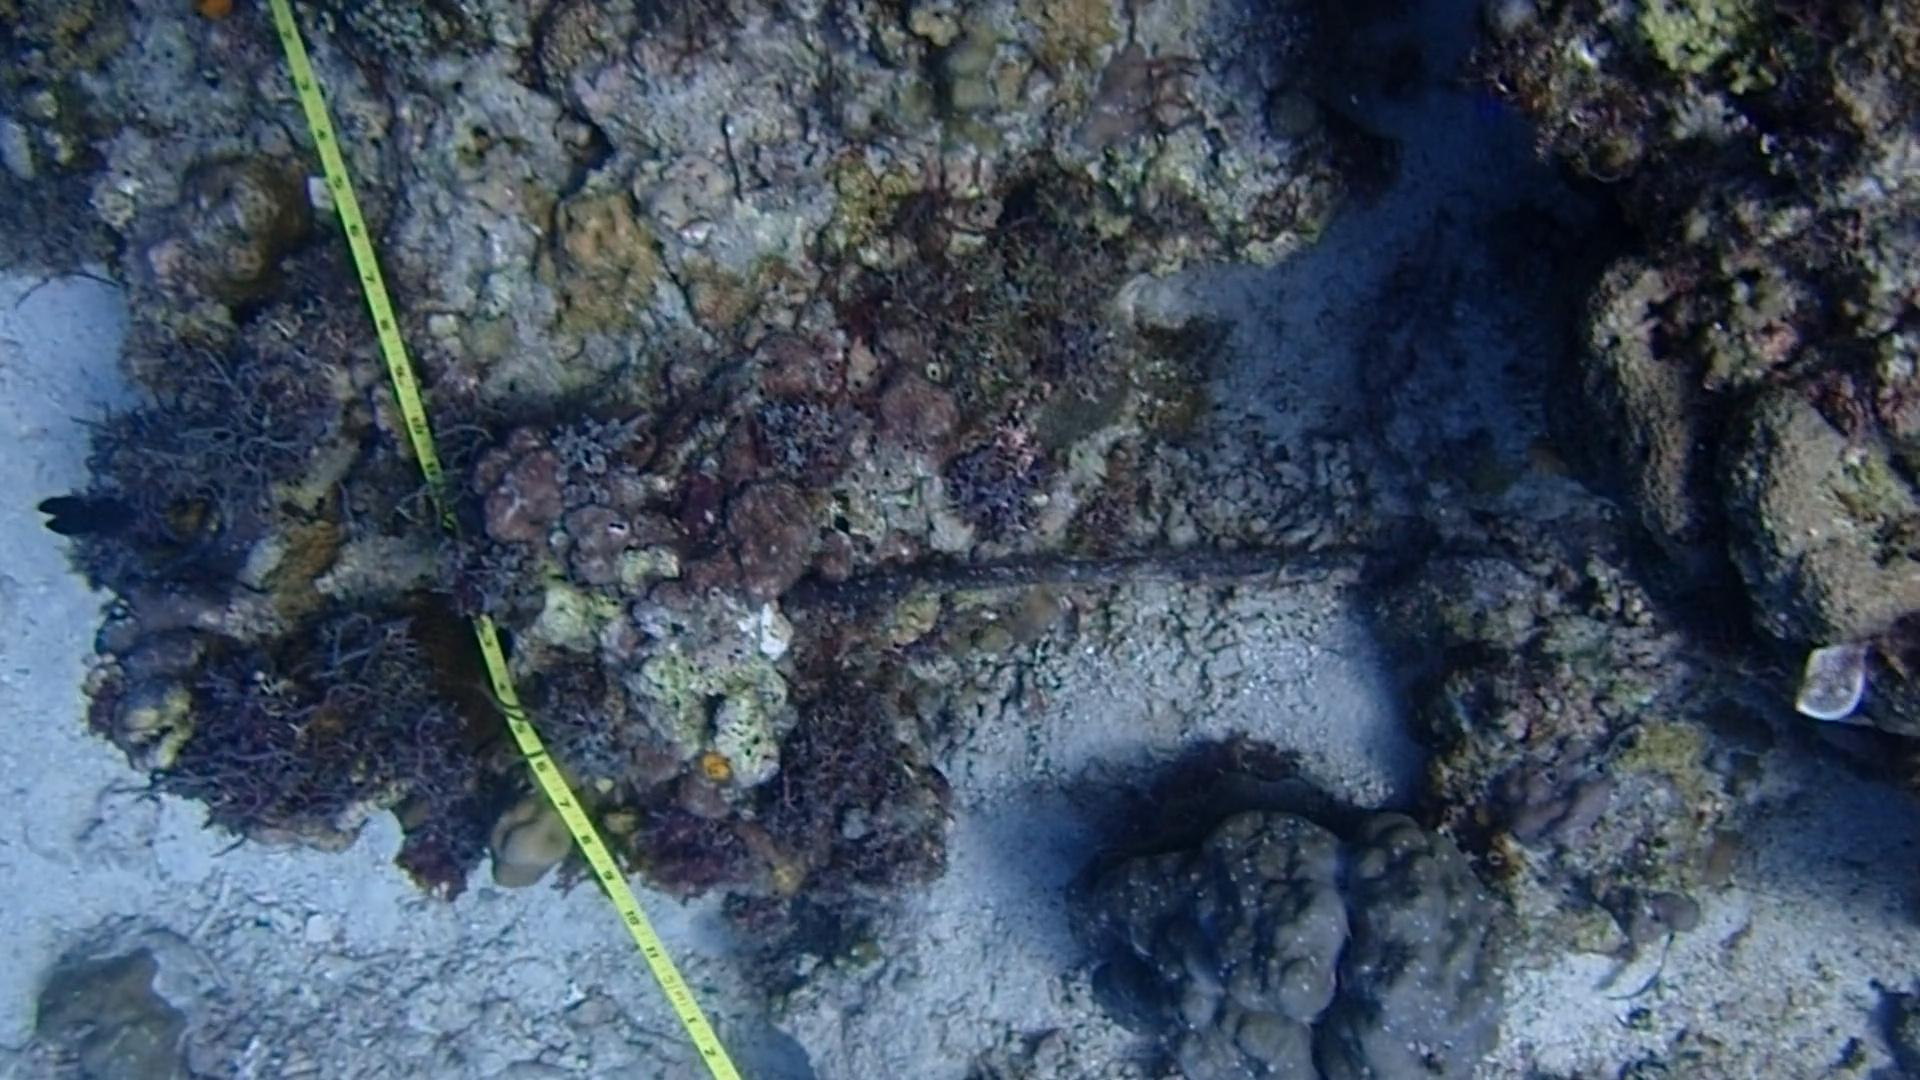Dark Fish: (33, 467, 152, 559)
